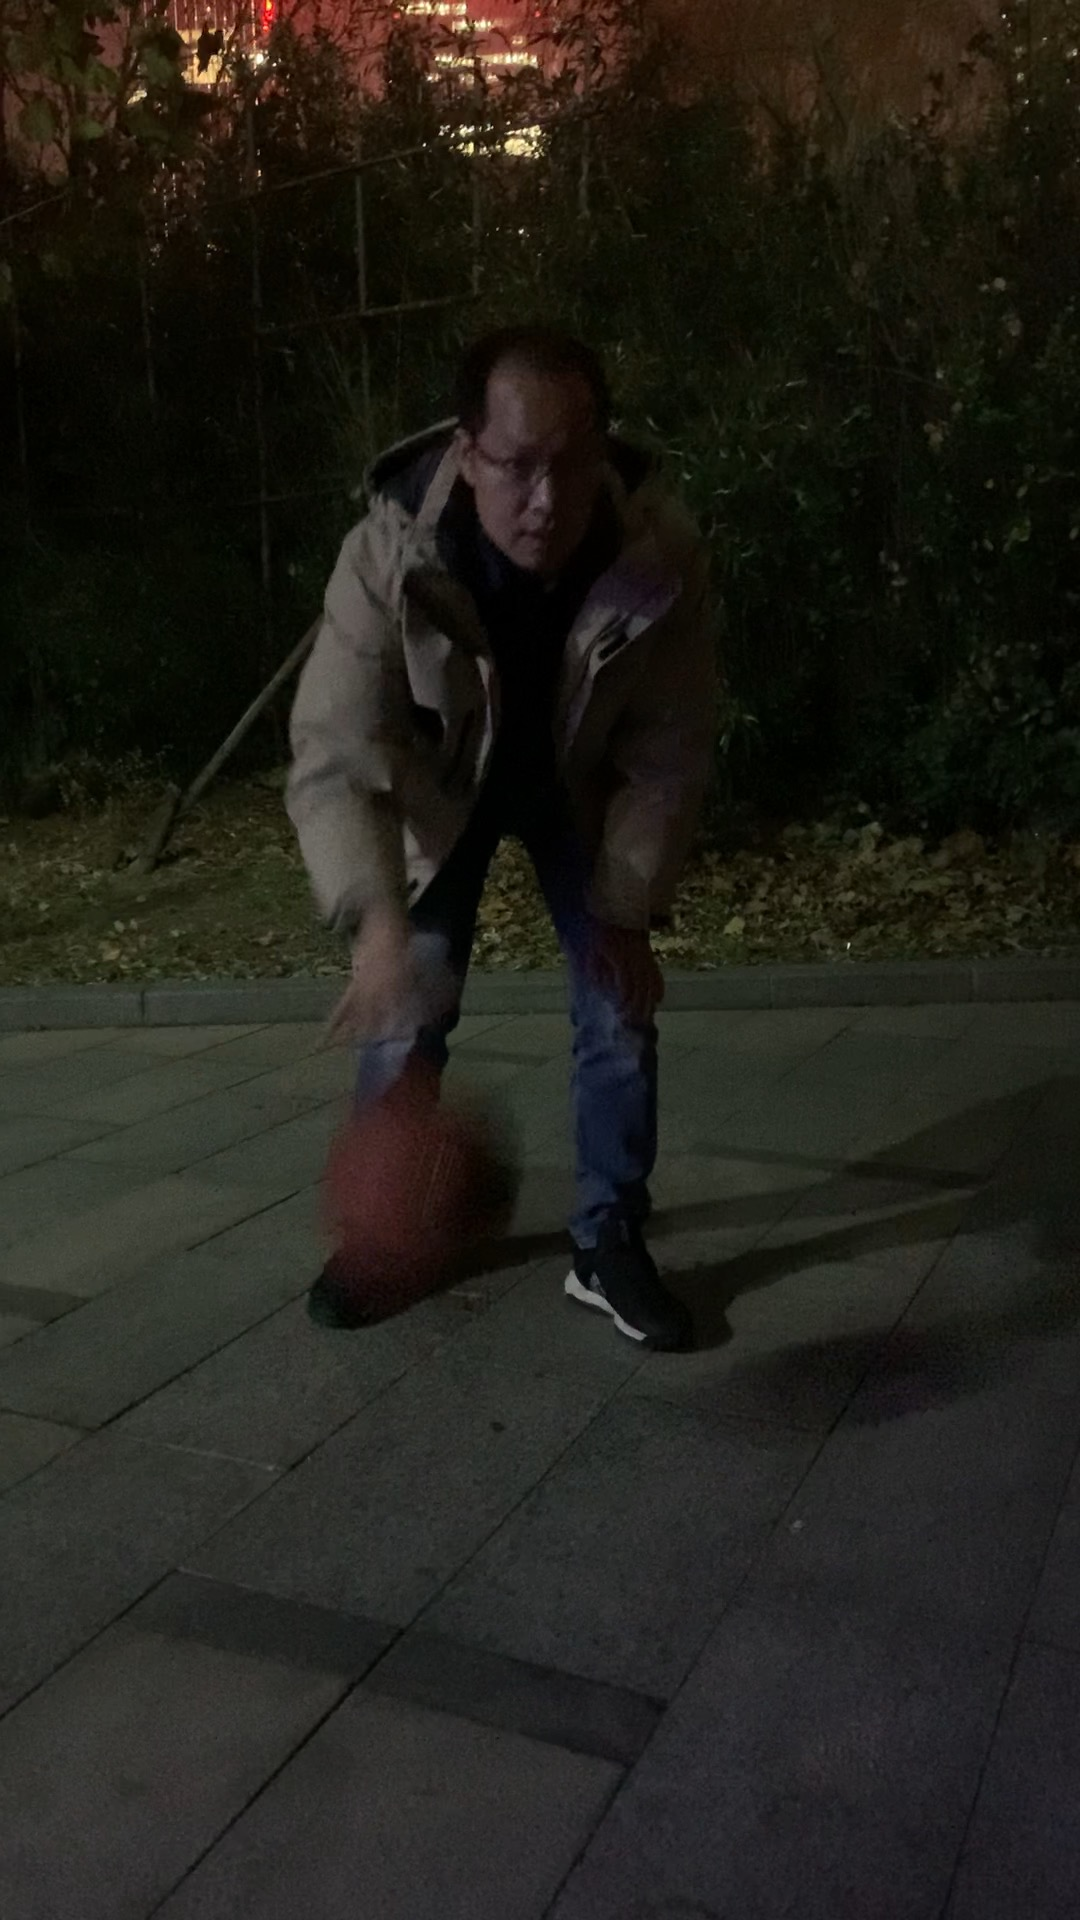ball: (320, 1098, 527, 1284)
